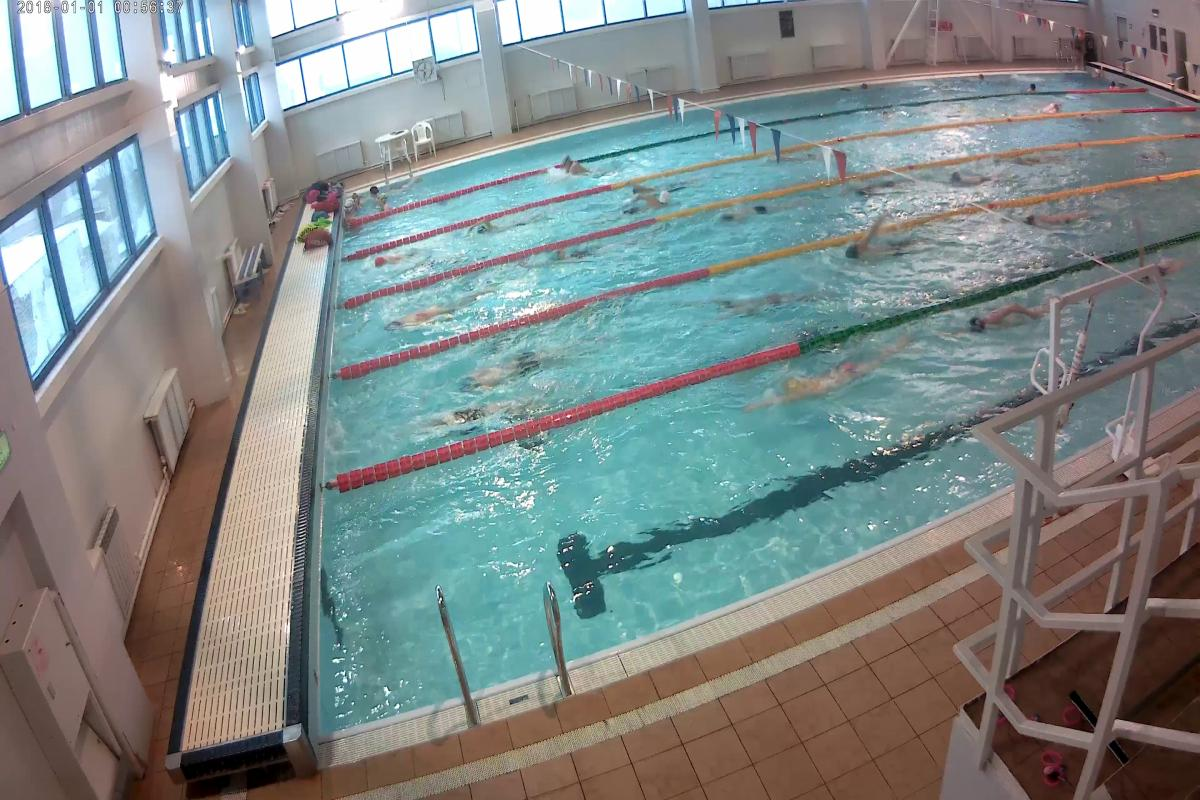swimmer: (745, 335, 920, 416), (451, 345, 558, 399), (705, 192, 816, 228), (385, 298, 475, 342), (836, 231, 932, 267), (957, 298, 1045, 335), (1012, 202, 1102, 229), (460, 214, 526, 242), (525, 246, 598, 271), (624, 188, 681, 220), (943, 169, 998, 194), (559, 156, 593, 181)
